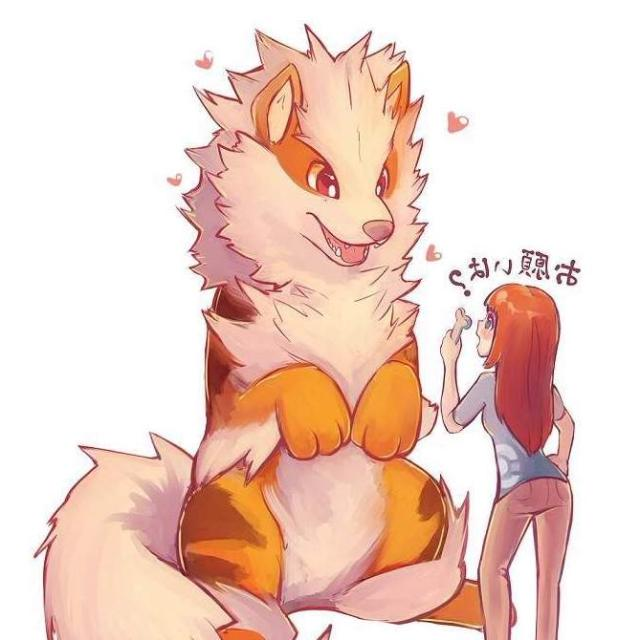Arcanine: (170, 21, 438, 640)
